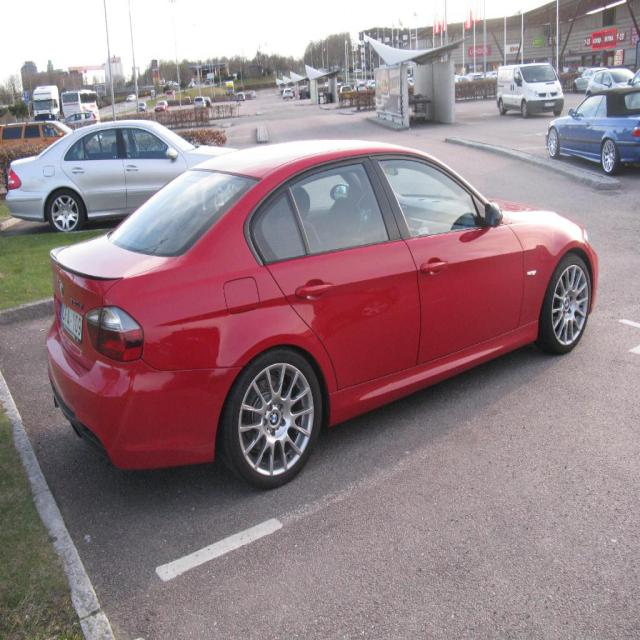car: (37, 141, 585, 492), (236, 89, 246, 101), (126, 92, 136, 101)
